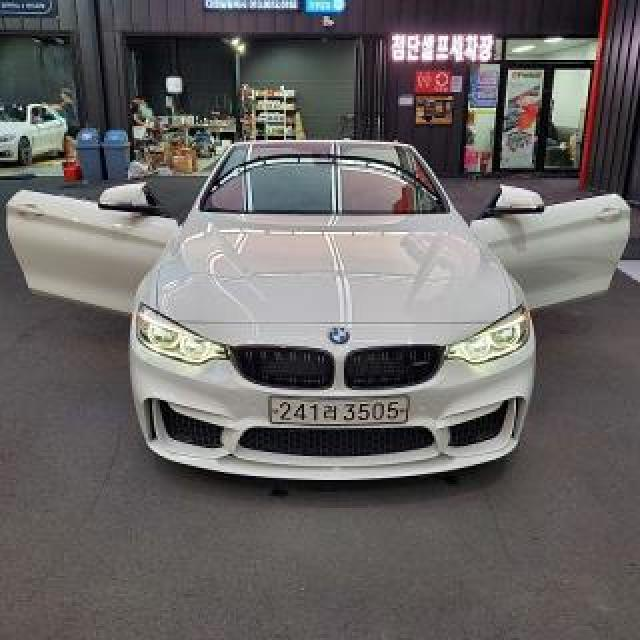car: (0, 137, 640, 490)
illegal_plate: (257, 395, 410, 433)
